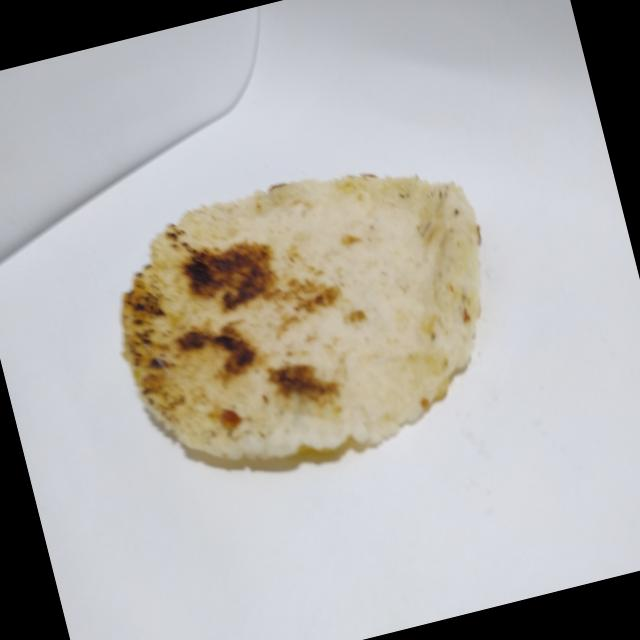Mbeju: (84, 121, 528, 508)
